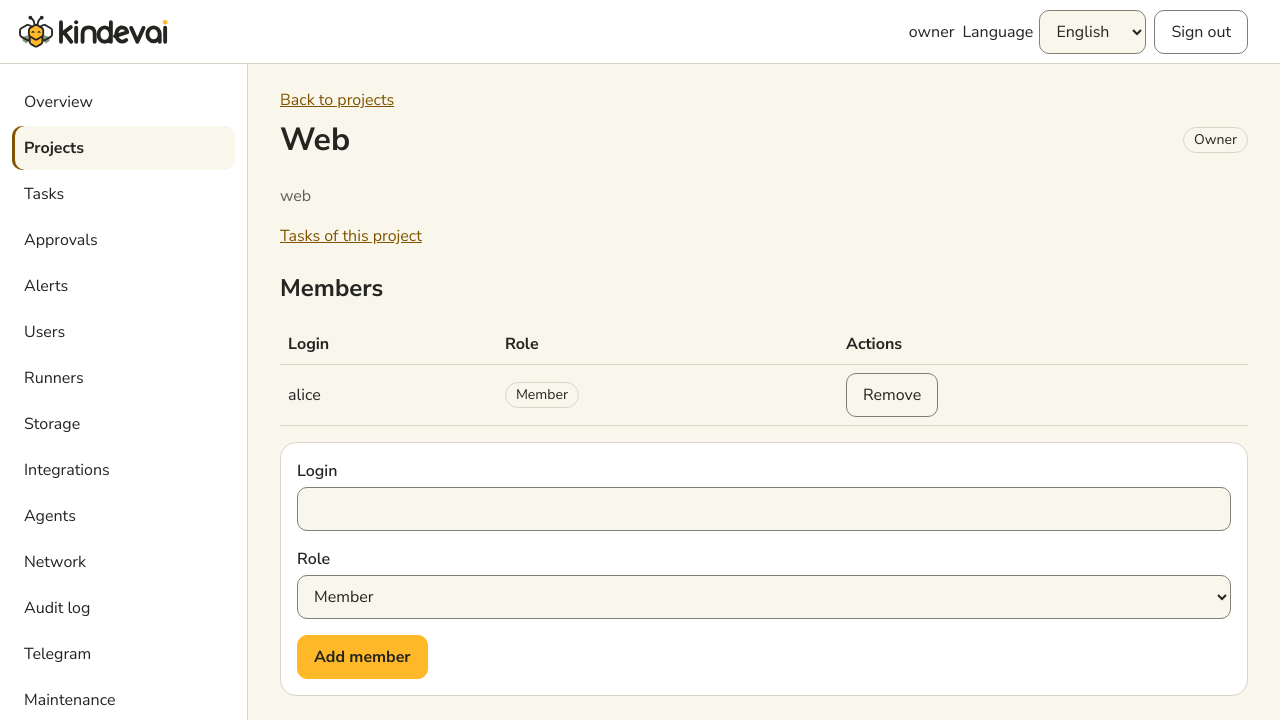
Scenario: treats an already removed member as removed
Click the button with aria-label "Remove alice" at (892, 395), box top-left (846, 373), bottom-right (938, 417)
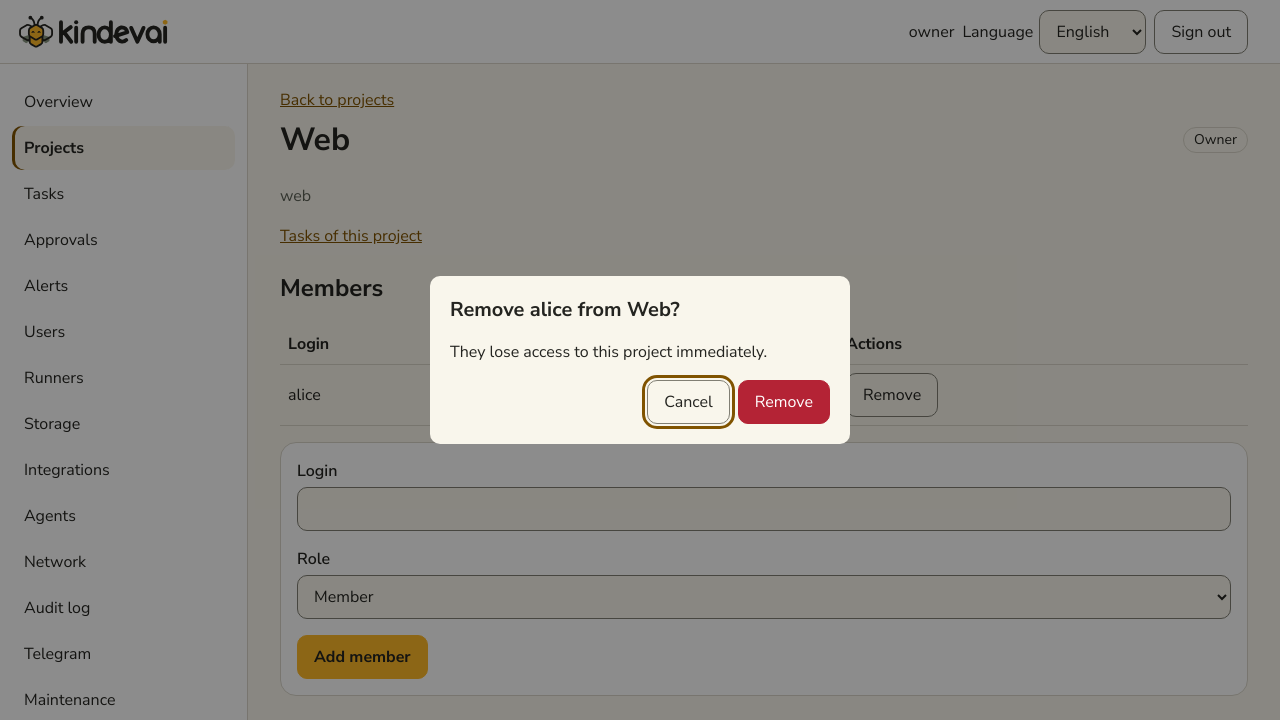
Click the button "Remove" at (784, 402), box top-left (738, 380), bottom-right (830, 424)
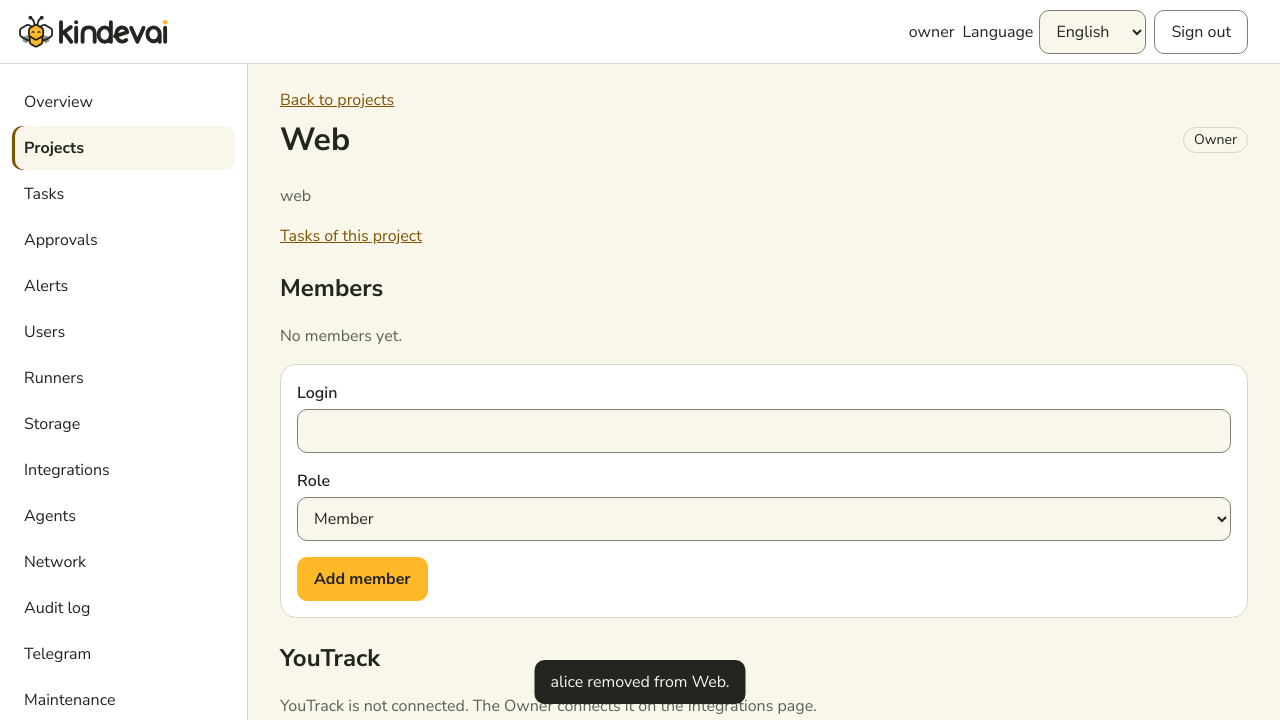
Expected: the text "alice removed from Web." is shown, top-left (534, 660), bottom-right (746, 704)
Expected: the text "No members yet." is shown, top-left (280, 325), bottom-right (402, 347)
